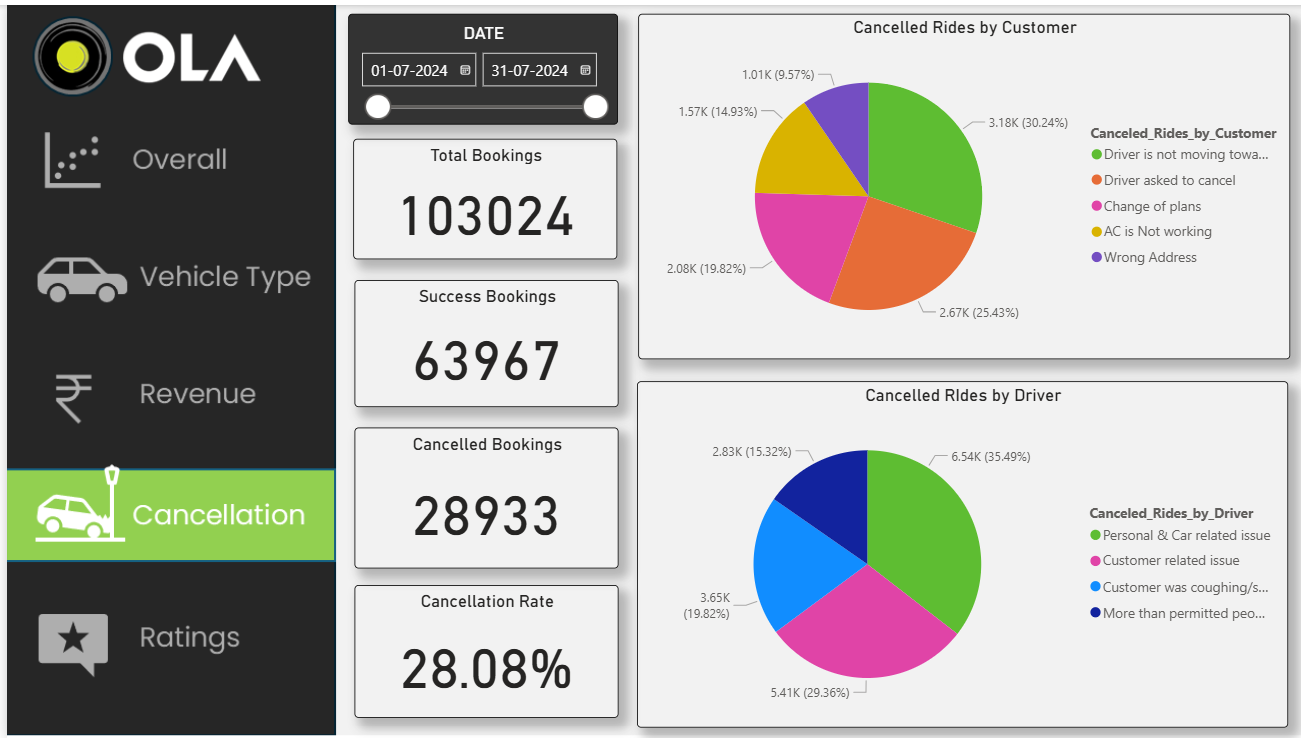

Layout of this report page (visuals, bound fields, positions):
{"tool":"powerbi","page":{"name":"Cancellation","canvas":[1280,720],"ordinal":3},"visuals":[{"type":"actionButton","box":[0,224.5,322.7,90.8],"z":0},{"type":"actionButton","box":[0,339.9,322.7,90.8],"z":1000},{"type":"actionButton","box":[0,579.1,322.7,90.8],"z":2000},{"type":"actionButton","box":[0,109.2,322.7,90.8],"z":3000},{"type":"pieChart","title":"Cancelled Rides by Customer","fields":{"Category":["July.Canceled_Rides_by_Customer"],"Y":["CountNonNull(July.Canceled_Rides_by_Customer)"]},"box":[619.1,8.7,640.1,339.3],"z":4000},{"type":"pieChart","title":"Cancelled RIdes by Driver","fields":{"Category":["July.Canceled_Rides_by_Driver"],"Y":["CountNonNull(July.Customer_ID)"]},"box":[618.4,369.3,639.3,339.9],"z":5000},{"type":"card","title":"Total Bookings","fields":{"Values":["CountNonNull(July.Booking_ID)"]},"box":[340.3,131.7,259.3,118],"z":6000},{"type":"slicer","title":"DATE","fields":{"Values":["July.Date"]},"box":[334.8,8.2,264.8,108.4],"z":7000},{"type":"card","title":"Success Bookings","fields":{"Values":["CountNonNull(July.Booking_ID)"]},"box":[341.7,270.3,259.3,124.9],"z":8000},{"type":"card","title":"Cancelled Bookings","fields":{"Values":["CountNonNull(July.Booking_ID)"]},"box":[341.7,414.4,259.3,138.6],"z":9000},{"type":"card","title":"Cancellation Rate","fields":{"Values":["July.Cancellation Percentage"]},"box":[341.7,569.5,259.3,130.4],"z":10000}]}

Visuals, with their boxes in screenshot pixels (x1, y1, x2, y2), scaled from the page's 1280x720 canvas onto the 1301x738 screenshot:
actionButton: 0, 230, 328, 323
actionButton: 0, 348, 328, 441
actionButton: 0, 594, 328, 687
actionButton: 0, 112, 328, 205
"Cancelled Rides by Customer" pieChart: 629, 9, 1280, 357
"Cancelled RIdes by Driver" pieChart: 629, 379, 1278, 727
"Total Bookings" card: 346, 135, 609, 256
"DATE" slicer: 340, 8, 609, 120
"Success Bookings" card: 347, 277, 611, 405
"Cancelled Bookings" card: 347, 425, 611, 567
"Cancellation Rate" card: 347, 584, 611, 717
